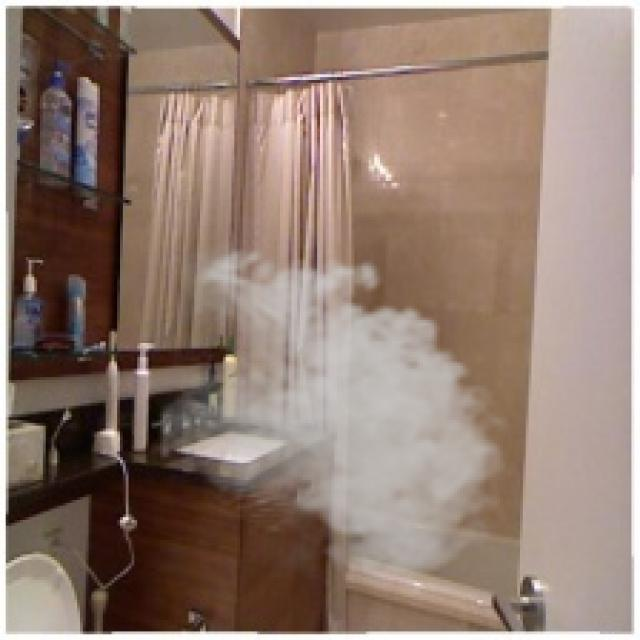Smoke: (157, 237, 517, 583)
